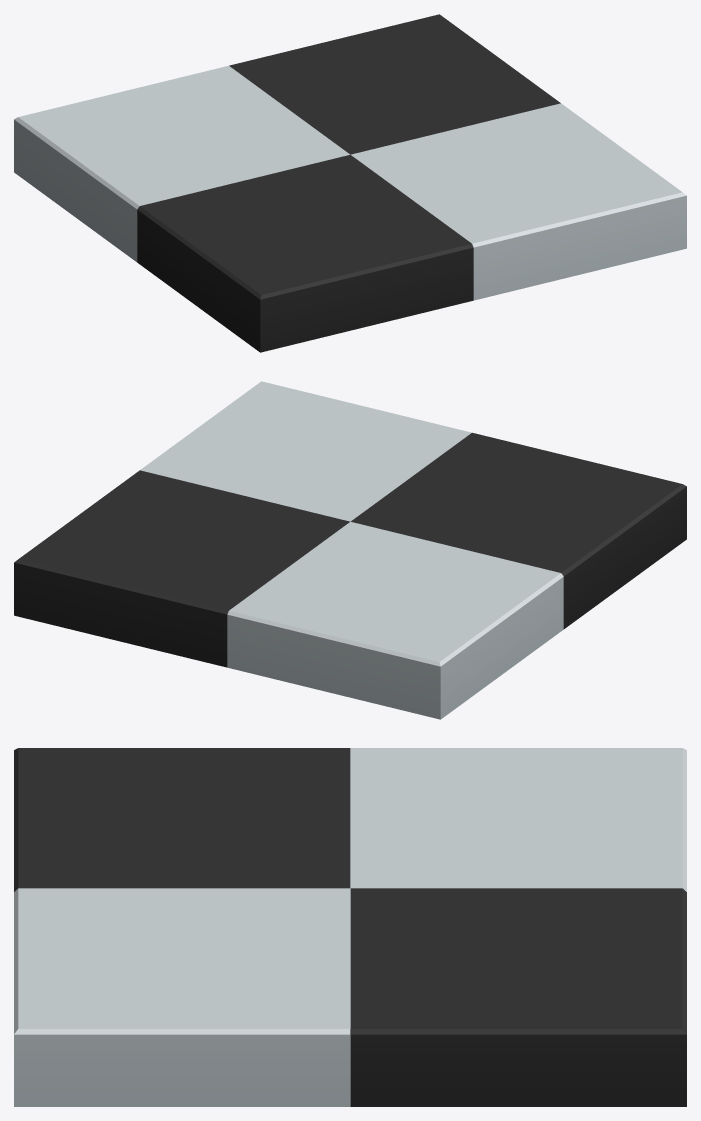
Rendered from Floor Kitchen.glb.
3 views of the same model, one above another, from view 1: azimuth 30°, elevation 25°; view 2: azimuth 150°, elevation 25°; view 3: azimuth 270°, elevation 25° (orthographic). The views are drawn at different scales.
Visible parts, largest first — view 1: floor_kitchen; view 2: floor_kitchen; view 3: floor_kitchen.
Part boxes in pixels (x1,y1,x2,y2): floor_kitchen: (14, 14, 686, 352); floor_kitchen: (14, 381, 686, 719); floor_kitchen: (14, 748, 686, 1106).
Bounding box in the file's own units: 4 × 0.5 × 4.
Materials: 1 (1 with a texture image).
